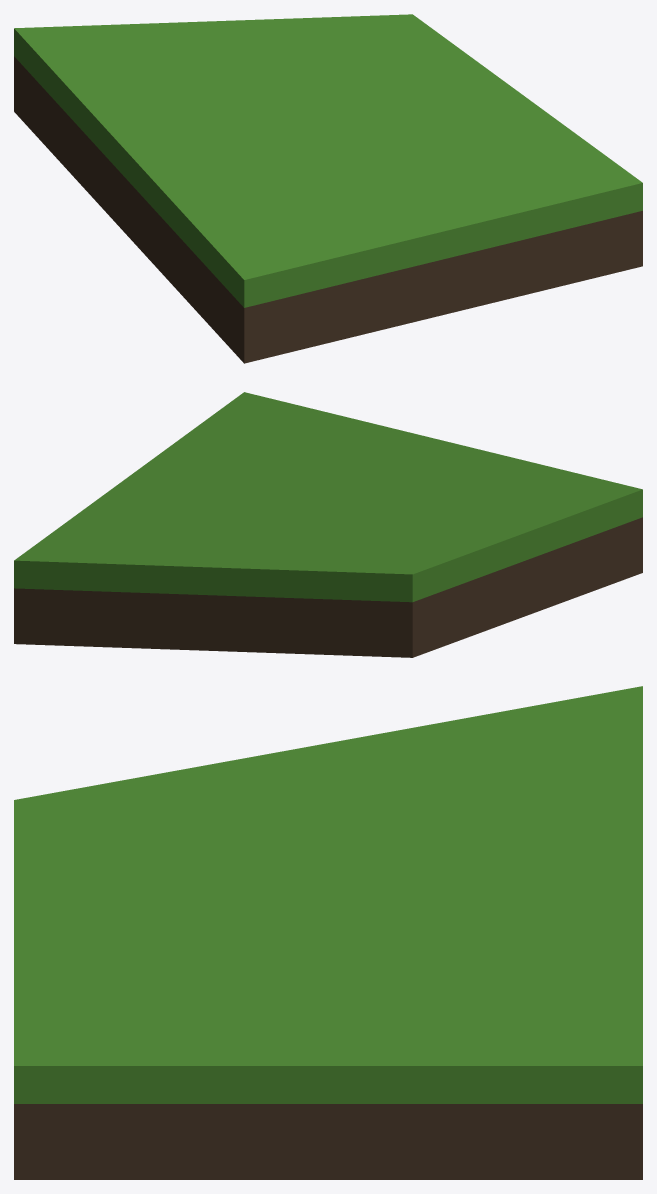
File: tile-hill-corner.glb
3 renders of one model, top to bottom at view 1: azimuth 30°, elevation 25°; view 2: azimuth 150°, elevation 25°; view 3: azimuth 270°, elevation 25°, orthographic. The views are drawn at different scales.
Parts seen in each view (by area): view 1: tile-hill-corner; view 2: tile-hill-corner; view 3: tile-hill-corner.
Boxes of the visible parts, x1,y1,x2,y2 form: tile-hill-corner: (14,14,642,363); tile-hill-corner: (14,392,642,657); tile-hill-corner: (14,686,642,1179).
Size of the model in its own units: 30 by 12 by 30.
Materials: 1 (1 with a texture image).
